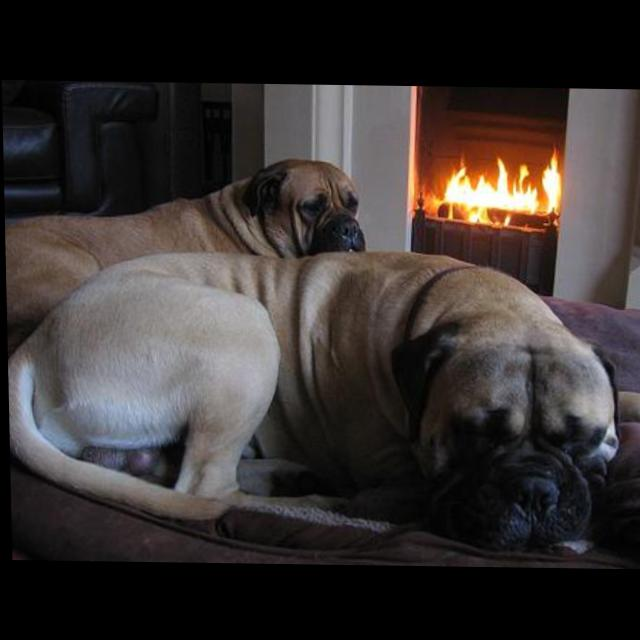bullmastiff: (5, 242, 640, 553), (4, 154, 371, 437)
